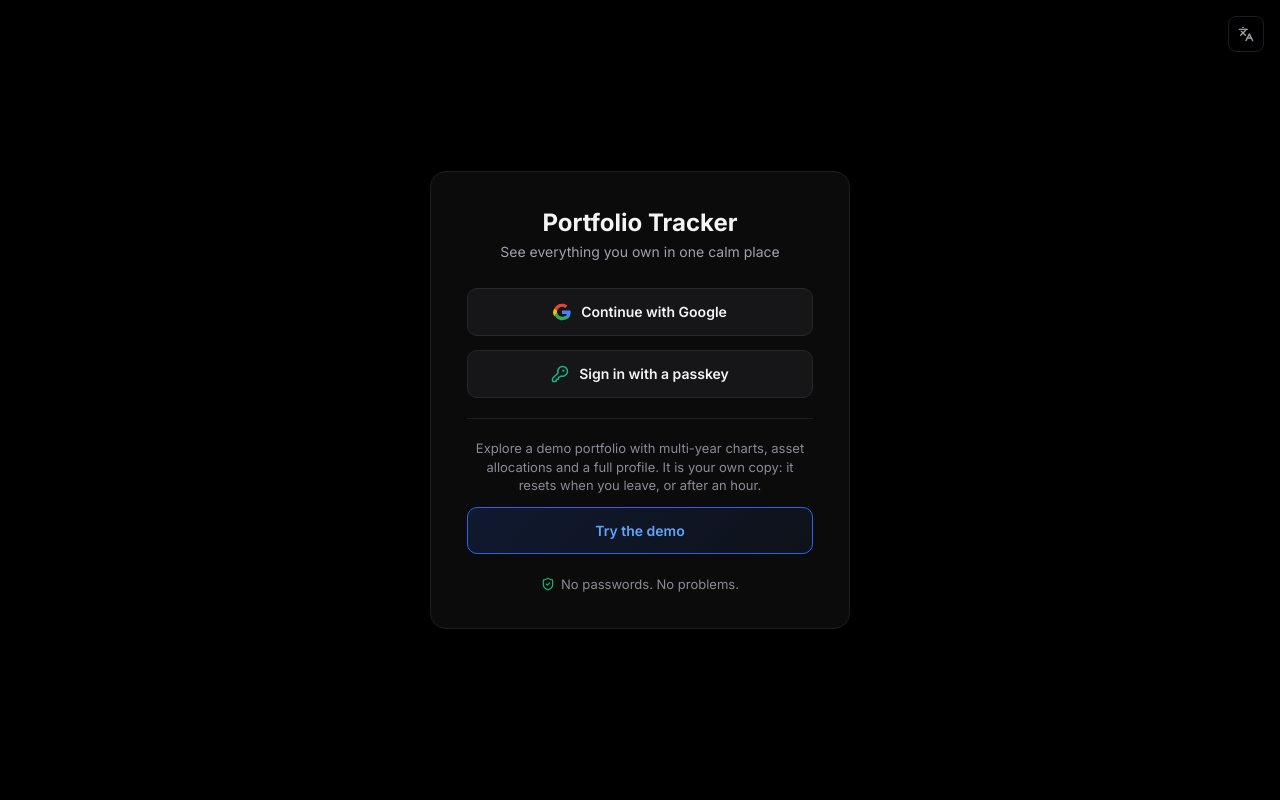
LoginModal: the demo › says so when the demo is busy, in words, and signs nobody in
The width and height of the screenshot is (1280, 800).
Click the button "Try the demo".
click(640, 531)  # box left=467, top=507, right=813, bottom=554
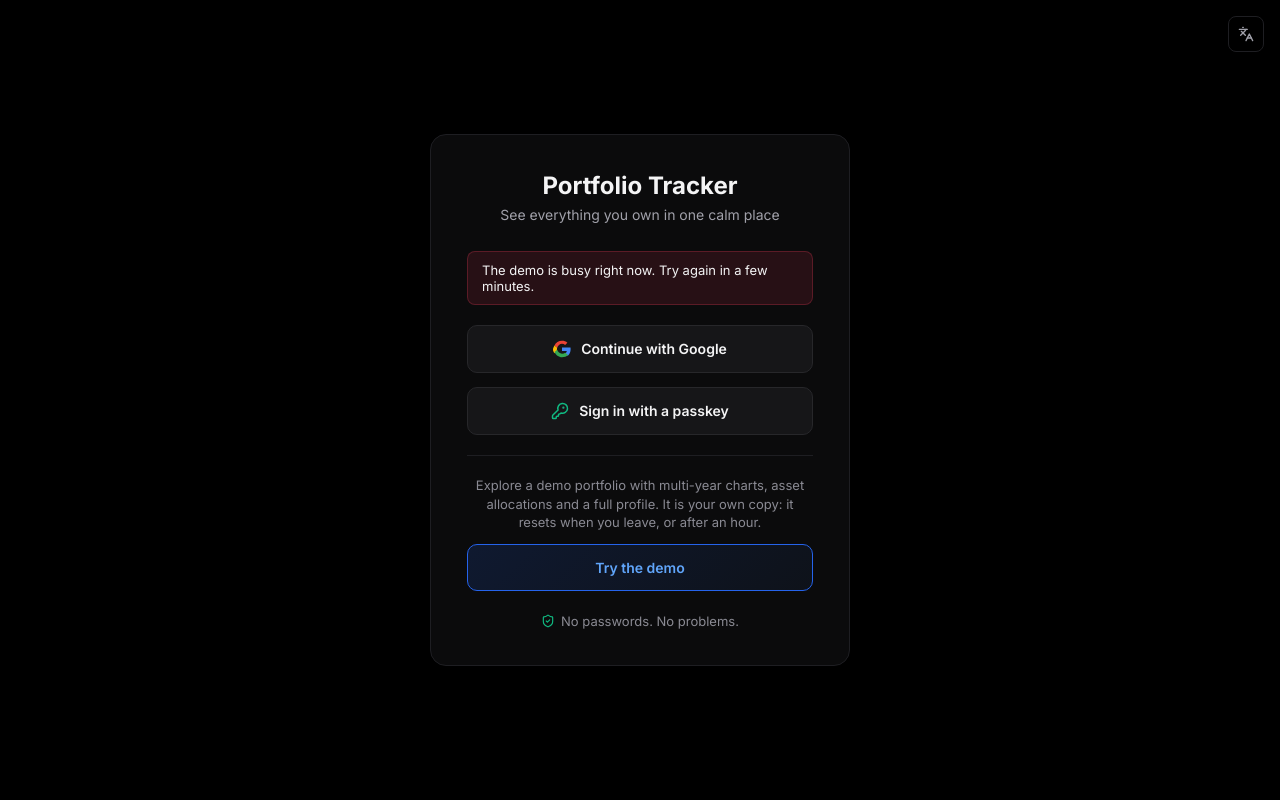
Check: the message shows "The demo is busy right now", box left=482, top=262, right=768, bottom=294
